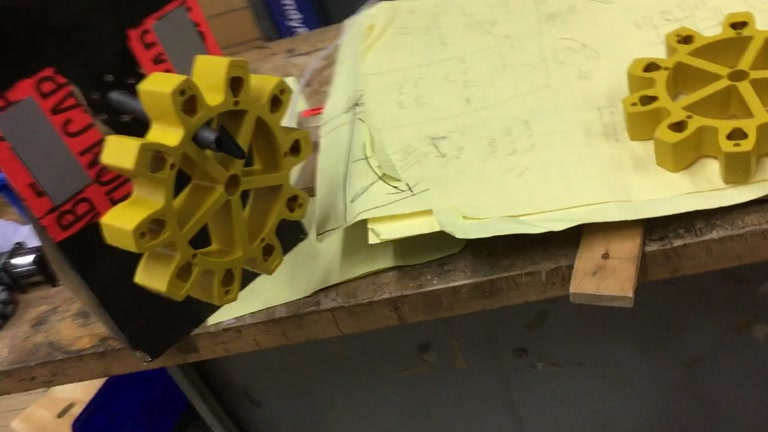gear: (99, 52, 311, 306), (622, 8, 768, 185)
